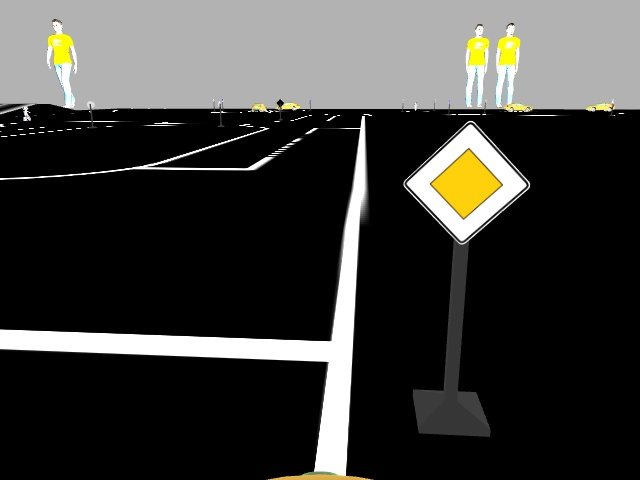Priority: (406, 115, 529, 243)
